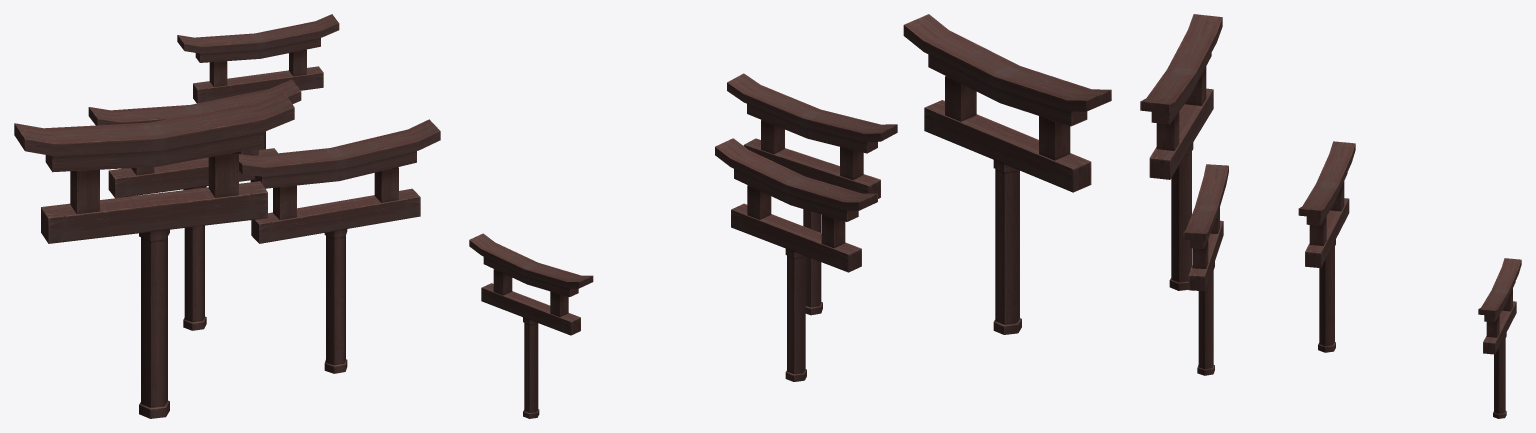
Rendered from Area_04_2.fbx.
The picture shows the model from 3 angles, left to right: view 1: azimuth 30°, elevation 25°; view 2: azimuth 150°, elevation 25°; view 3: azimuth 270°, elevation 25°; orthographic projection. The views are drawn at different scales.
Parts seen in each view (by area): view 1: Area_04_2; view 2: Area_04_2; view 3: Area_04_2.
Boxes of the visible parts, bbox=[...] form: Area_04_2: bbox=[14, 14, 440, 418]; Area_04_2: bbox=[469, 14, 1111, 418]; Area_04_2: bbox=[1140, 14, 1521, 418].
Bounding box in the file's own units: 3262 × 1945 × 2795.
